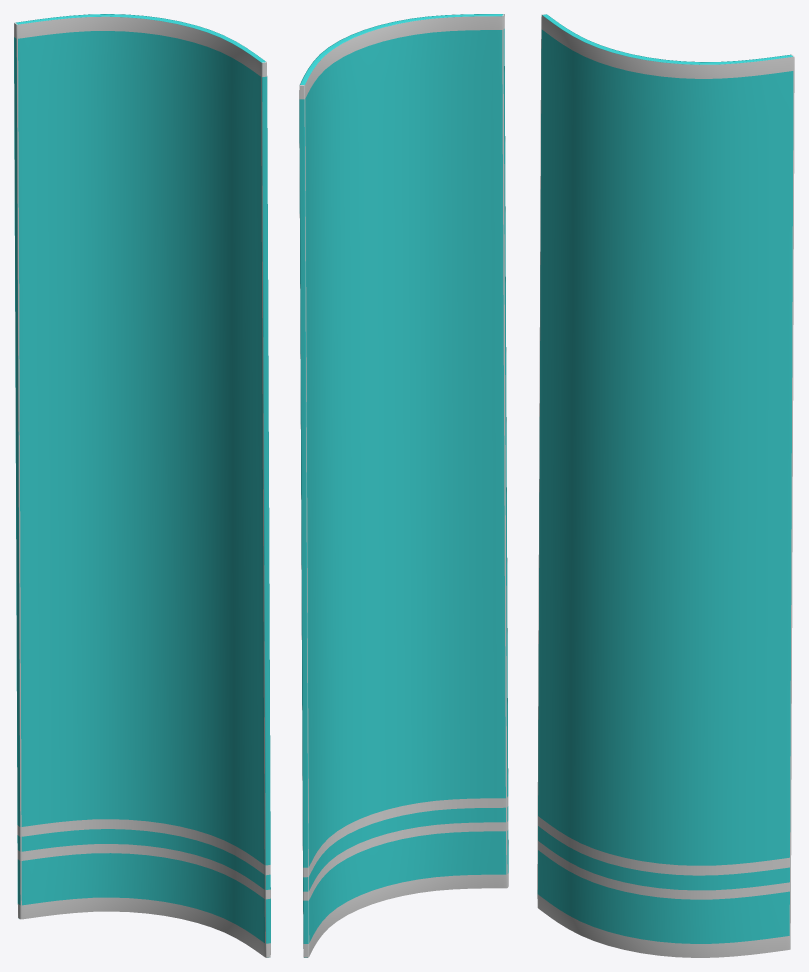
The model's file is PuertaIA.glb.
The picture shows the model from 3 angles, left to right: view 1: azimuth 90°, elevation 25°; view 2: azimuth 150°, elevation 25°; view 3: azimuth 270°, elevation 25°; orthographic projection. The views are drawn at different scales.
Visible parts, largest first — view 1: D_ascensor_puerta3; view 2: D_ascensor_puerta3; view 3: D_ascensor_puerta3.
Part boxes in pixels (bbox=[...]): D_ascensor_puerta3: bbox=[14, 14, 270, 957]; D_ascensor_puerta3: bbox=[299, 14, 508, 957]; D_ascensor_puerta3: bbox=[537, 14, 794, 957].
Size of the model in its own units: 0.0237 by 0.1927 by 0.0501.
